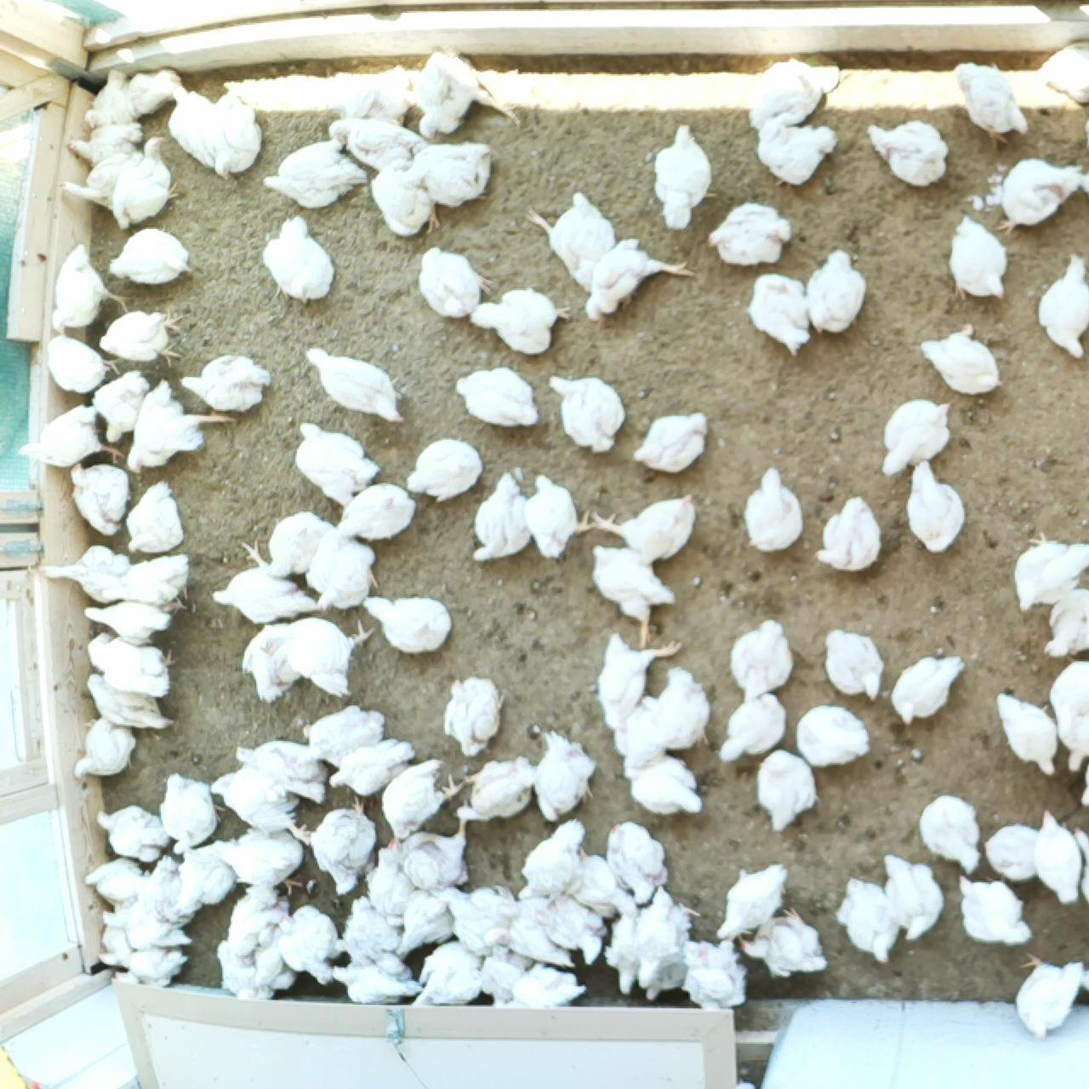chicken: (128, 375, 234, 475), (412, 49, 520, 142), (580, 235, 694, 321), (524, 186, 615, 291), (589, 540, 673, 648), (594, 629, 683, 727), (306, 345, 408, 428), (277, 613, 374, 699), (209, 768, 312, 845), (386, 800, 474, 890), (986, 158, 1085, 237), (16, 403, 129, 472), (260, 135, 365, 207), (915, 320, 1008, 399), (294, 419, 379, 505), (108, 134, 181, 234), (379, 756, 461, 845), (951, 59, 1033, 148), (304, 795, 376, 896), (48, 245, 130, 333), (736, 904, 832, 978), (591, 492, 696, 559), (651, 123, 715, 229), (262, 214, 336, 305), (216, 820, 304, 896), (209, 565, 322, 624), (1016, 945, 1084, 1042), (240, 508, 329, 582), (642, 664, 716, 753), (304, 527, 380, 613), (864, 116, 952, 190), (466, 286, 564, 352), (878, 394, 955, 477), (214, 825, 305, 895), (521, 473, 595, 559), (454, 360, 542, 432), (546, 373, 623, 455), (715, 859, 790, 943), (370, 154, 443, 240), (833, 874, 904, 962), (467, 469, 532, 565), (515, 818, 591, 900), (1013, 528, 1089, 610), (533, 730, 598, 825), (156, 770, 226, 858), (636, 885, 695, 989), (879, 853, 947, 943), (905, 458, 968, 555), (1035, 249, 1089, 362), (404, 144, 495, 211), (744, 55, 825, 130), (493, 889, 569, 968), (704, 201, 794, 267), (418, 245, 495, 322), (955, 874, 1035, 948), (233, 741, 328, 803), (803, 248, 871, 334), (607, 817, 671, 908), (621, 753, 709, 819), (748, 273, 816, 358), (741, 466, 807, 553), (456, 755, 539, 824), (946, 214, 1011, 302), (753, 119, 839, 185), (87, 631, 175, 695), (405, 939, 484, 1010), (35, 543, 133, 600), (813, 492, 881, 574), (728, 616, 792, 703), (891, 651, 966, 725), (678, 936, 749, 1014), (717, 684, 785, 765), (439, 673, 506, 755), (326, 736, 417, 796), (180, 353, 271, 413), (630, 407, 709, 476), (241, 618, 304, 704), (918, 794, 984, 876), (325, 116, 427, 169), (98, 303, 185, 365), (995, 691, 1058, 776), (85, 673, 177, 731), (273, 905, 339, 985), (107, 225, 195, 285), (361, 595, 452, 653), (535, 891, 606, 965), (758, 747, 819, 832), (96, 802, 171, 871), (304, 705, 386, 768), (391, 885, 460, 959), (57, 147, 131, 216), (609, 693, 669, 778), (566, 844, 633, 919), (795, 704, 874, 767), (210, 88, 264, 180), (446, 883, 511, 959), (405, 437, 481, 502), (343, 59, 415, 127), (820, 629, 888, 701), (64, 462, 131, 535), (82, 595, 187, 641), (100, 552, 191, 605), (91, 366, 151, 446), (334, 482, 417, 539), (230, 882, 290, 960), (122, 478, 185, 552), (43, 335, 122, 394), (102, 899, 190, 951), (171, 846, 235, 917), (1048, 661, 1089, 770), (332, 955, 421, 1004), (74, 716, 139, 782), (337, 895, 399, 964), (1035, 809, 1081, 902), (168, 87, 217, 173), (363, 845, 413, 928), (62, 119, 144, 169), (506, 961, 587, 1010), (139, 852, 191, 928), (1035, 37, 1089, 109), (211, 941, 272, 1004), (983, 822, 1047, 882), (249, 920, 296, 994), (1040, 589, 1089, 659), (80, 70, 138, 129), (80, 857, 145, 909), (113, 946, 184, 992), (607, 911, 642, 1002), (122, 68, 180, 118), (482, 947, 524, 1011), (638, 954, 687, 1006), (96, 922, 133, 969), (1073, 827, 1089, 910)
